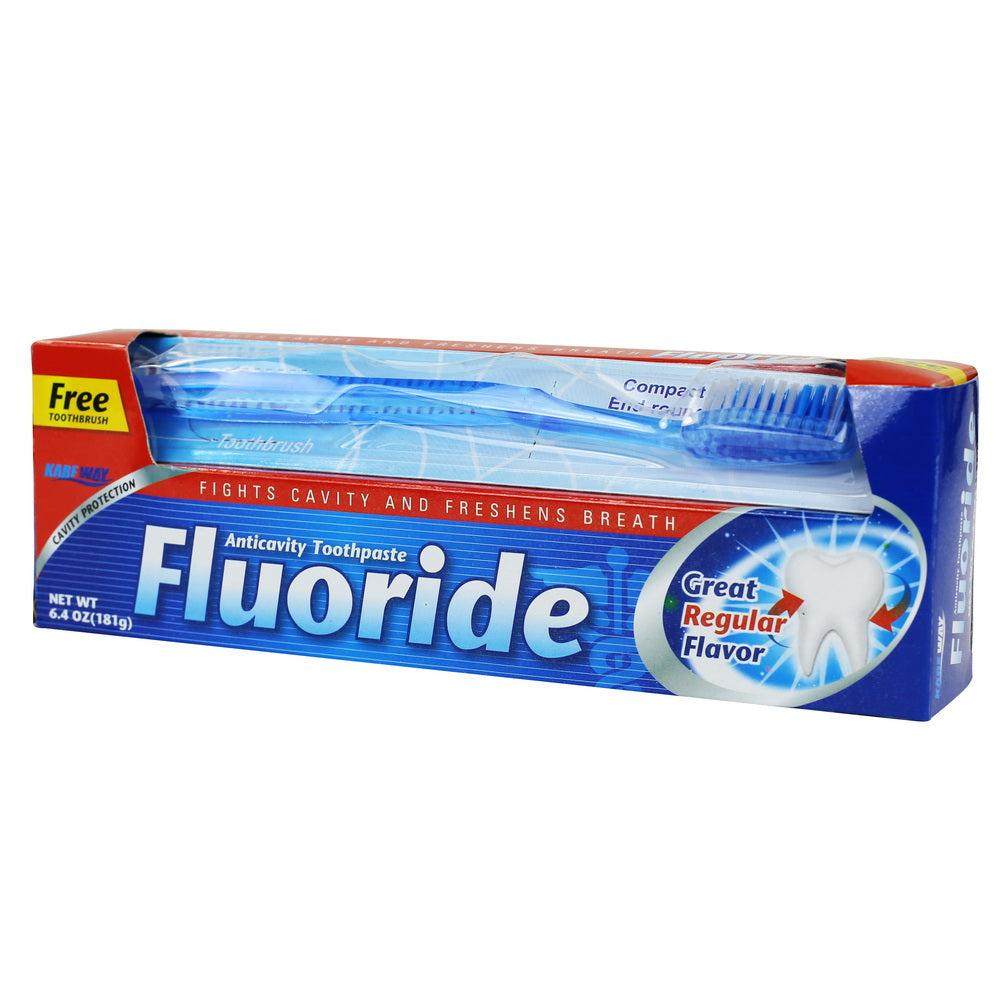toothpaste: (17, 302, 980, 725)
